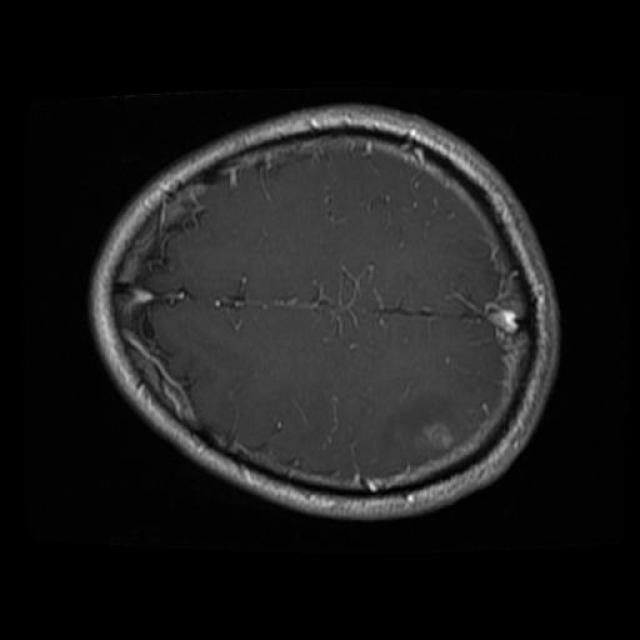Glioma: (372, 394, 471, 474)
